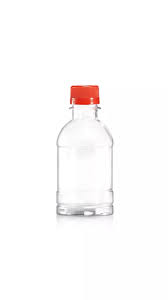Botella: (57, 85, 112, 214)
